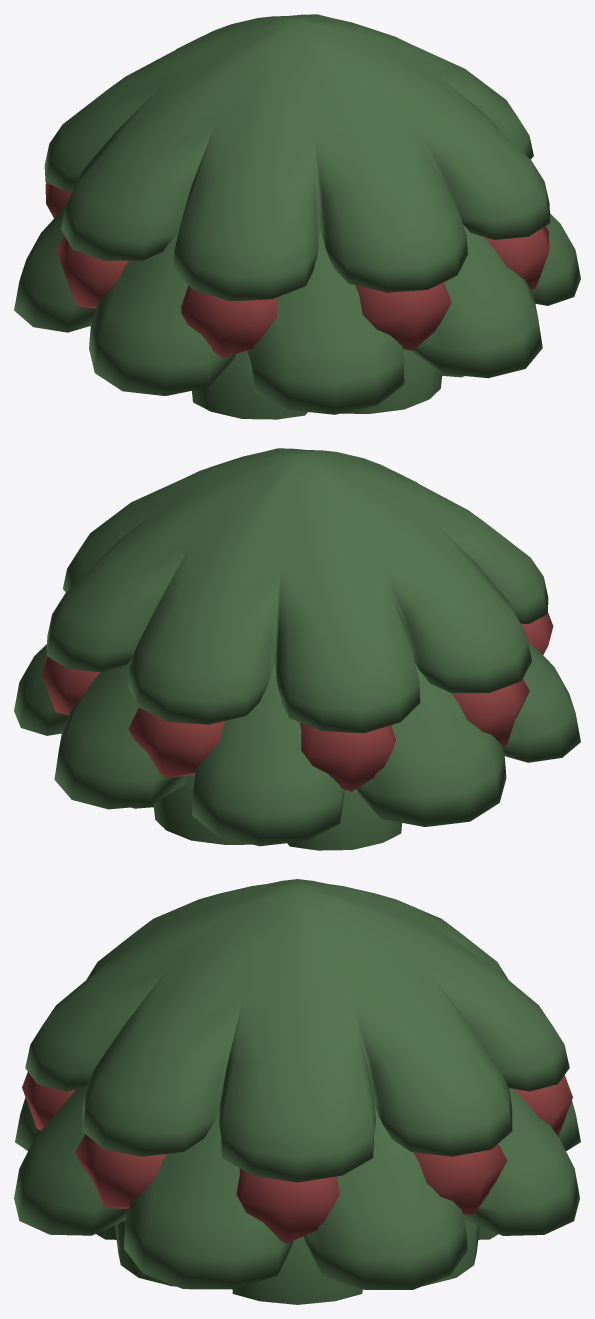
The model's file is Bush_Fruit.gltf.
The picture shows the model from 3 angles, top to bottom: view 1: azimuth 30°, elevation 25°; view 2: azimuth 150°, elevation 25°; view 3: azimuth 270°, elevation 25°; orthographic projection. The views are drawn at different scales.
Visible parts, largest first — view 1: Bush_Fruit; view 2: Bush_Fruit; view 3: Bush_Fruit.
Boxes of the visible parts, bbox=[...] form: Bush_Fruit: bbox=[14, 14, 580, 419]; Bush_Fruit: bbox=[14, 448, 580, 850]; Bush_Fruit: bbox=[14, 879, 580, 1304].
Size of the model in its own units: 2.34 by 1.48 by 2.34.
